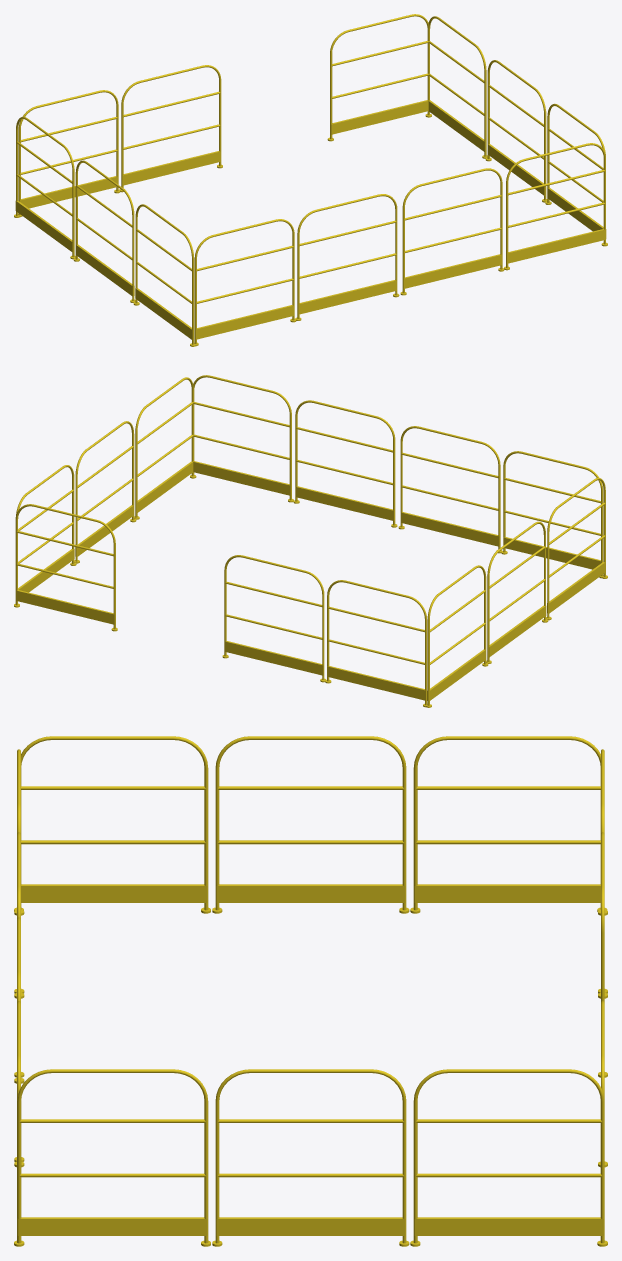
File: bARRRI 1.fbx
3 renders of one model, top to bottom at view 1: azimuth 30°, elevation 25°; view 2: azimuth 150°, elevation 25°; view 3: azimuth 270°, elevation 25°, orthographic. The views are drawn at different scales.
Parts seen in each view (by area): view 1: BAR, BAR.002, BAR.003, BAR.006, BAR.001, BAR.005, BAR.007, BAR.012, BAR.013, BAR.009, BAR.011, BAR.008 (+1 smaller); view 2: BAR, BAR.006, BAR.007, BAR.003, BAR.005, BAR.001, BAR.002, BAR.009, BAR.012, BAR.010, BAR.011, BAR.013 (+1 smaller); view 3: BAR.011, BAR.013, BAR.008, BAR.010, BAR.009, BAR.012, BAR.006.
Boxes of the visible parts, <box> form: BAR: <box>400,168,504,295</box>; BAR.002: <box>194,219,296,346</box>; BAR.003: <box>295,194,399,320</box>; BAR.006: <box>119,65,222,192</box>; BAR.001: <box>504,143,607,270</box>; BAR.005: <box>327,14,431,141</box>; BAR.007: <box>18,90,120,217</box>; BAR.012: <box>133,204,195,346</box>; BAR.013: <box>73,160,135,302</box>; BAR.009: <box>14,116,75,259</box>; BAR.011: <box>485,60,547,202</box>; BAR.008: <box>426,16,487,158</box>; BAR: <box>293,400,397,527</box>; BAR.006: <box>222,555,326,682</box>; BAR.007: <box>325,580,427,707</box>; BAR.003: <box>398,426,502,553</box>; BAR.005: <box>14,504,117,631</box>; BAR.001: <box>190,375,293,502</box>; BAR.002: <box>501,451,603,578</box>; BAR.009: <box>426,565,488,707</box>; BAR.012: <box>546,477,607,620</box>; BAR.010: <box>134,377,193,519</box>; BAR.011: <box>74,421,136,563</box>; BAR.013: <box>486,521,548,663</box>; BAR.011: <box>212,1069,409,1246</box>; BAR.013: <box>212,736,409,913</box>; BAR.008: <box>410,1069,606,1246</box>; BAR.010: <box>14,1069,210,1246</box>; BAR.009: <box>410,736,607,913</box>; BAR.012: <box>14,736,210,913</box>; BAR.006: <box>598,832,607,1077</box>.
Size of the model in its own units: 423 by 103 by 315.
